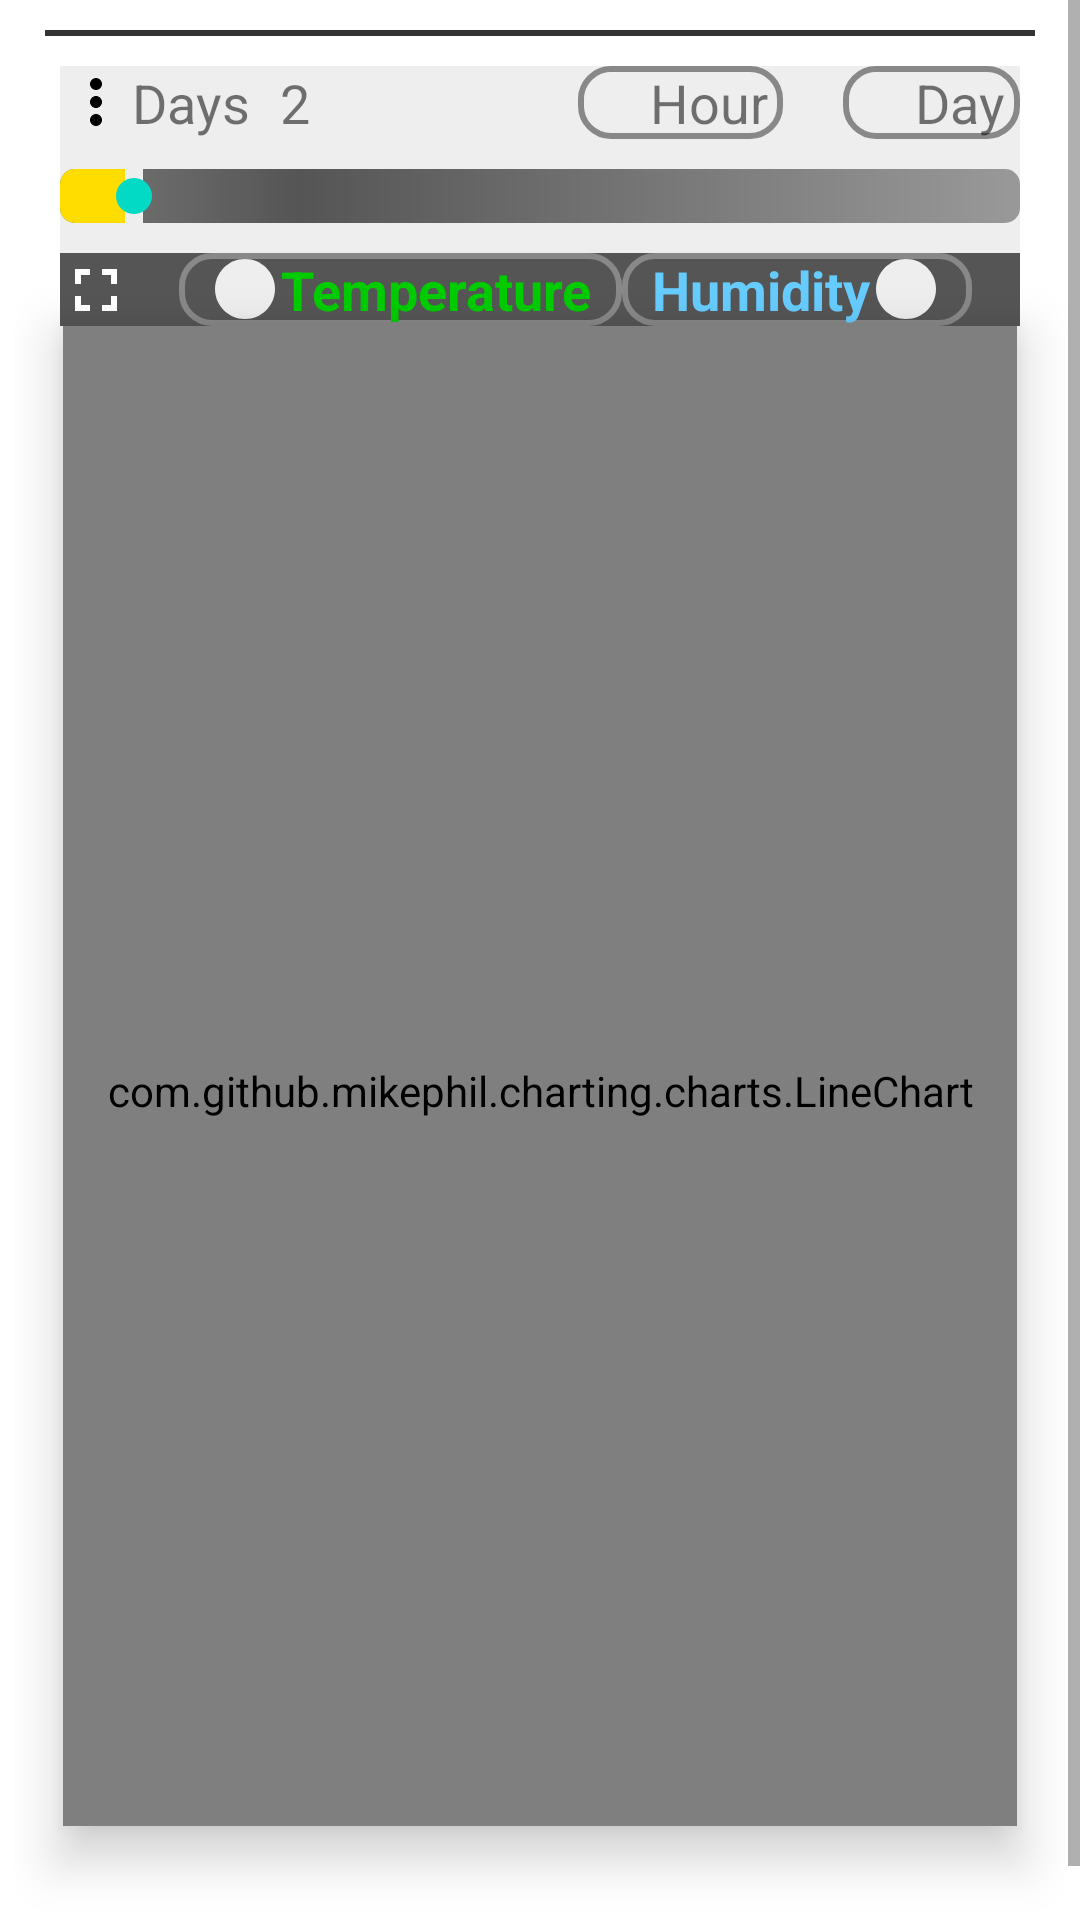

Named icons in this screenshot (1080×1920) and their centers, (x=x, y=y):
scr fullscreen: (x=96, y=289)
